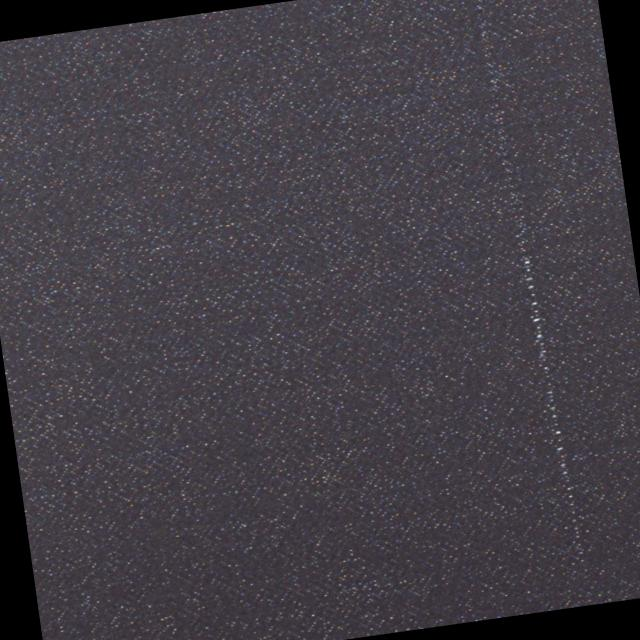Warp_Weft: (467, 0, 592, 567)
